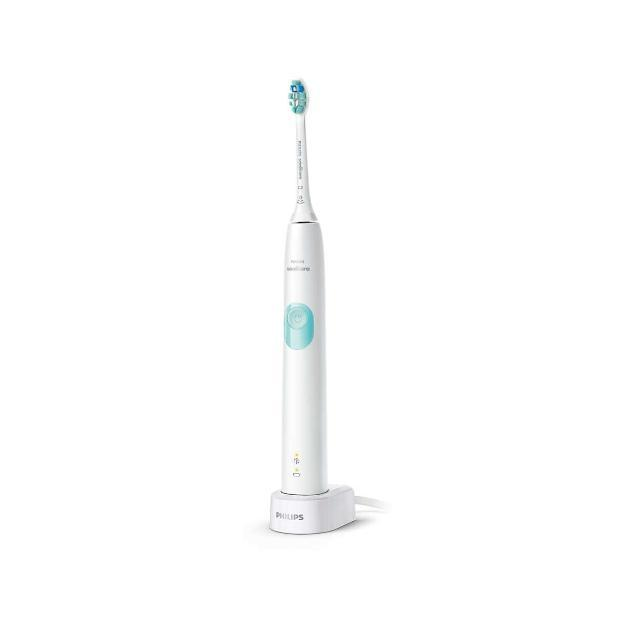toothbrush: (263, 64, 363, 542)
